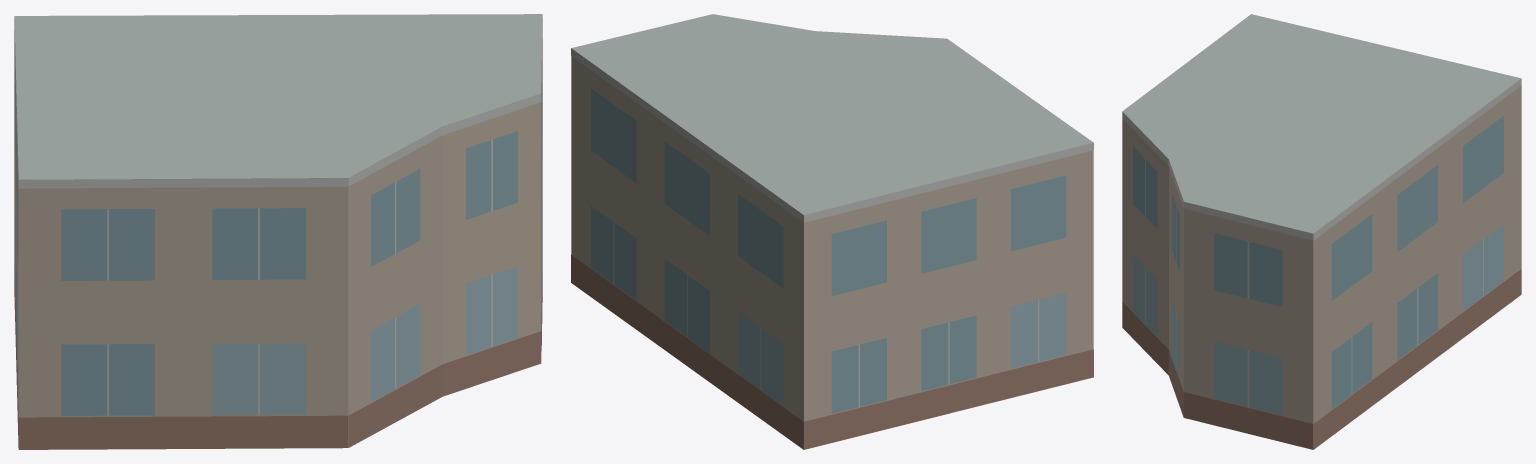
Rendered from survey-upis-32505793.glb.
The picture shows the model from 3 angles, left to right: view 1: azimuth 30°, elevation 25°; view 2: azimuth 150°, elevation 25°; view 3: azimuth 270°, elevation 25°; orthographic projection. The views are drawn at different scales.
Parts seen in each view (by area): view 1: survey-upis-32505793.tmp; view 2: survey-upis-32505793.tmp; view 3: survey-upis-32505793.tmp.
Boxes of the visible parts, bbox=[...] form: survey-upis-32505793.tmp: bbox=[14, 14, 542, 449]; survey-upis-32505793.tmp: bbox=[571, 14, 1093, 449]; survey-upis-32505793.tmp: bbox=[1122, 14, 1521, 449].
Bounding box in the file's own units: 16.36 × 7.5 × 12.57.
